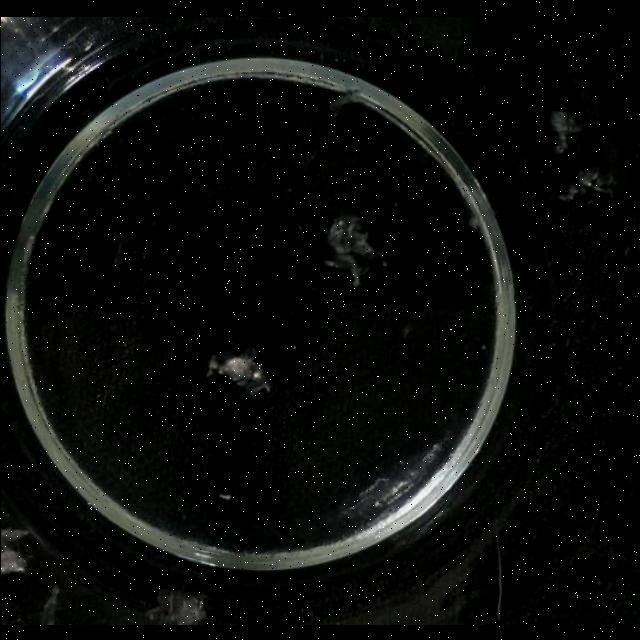Fibre: (205, 345, 269, 395), (145, 589, 203, 625), (560, 166, 616, 200), (548, 110, 582, 152), (0, 534, 28, 574), (327, 89, 365, 117), (108, 230, 134, 268)
Fragment: (322, 218, 384, 286)
microbeads: (373, 498, 381, 508), (624, 245, 630, 257)
